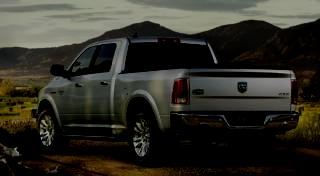ram: (234, 80, 250, 96)
